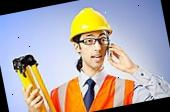helmet: (60, 2, 115, 46)
wear: (45, 67, 146, 112)
